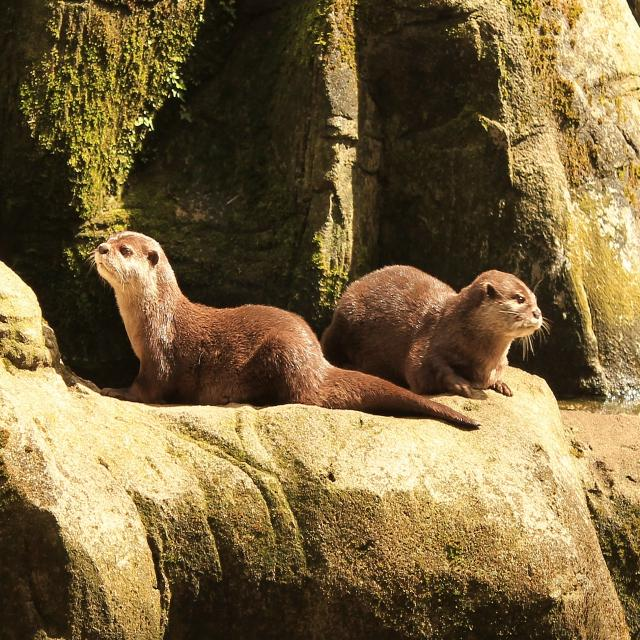otter: (98, 234, 477, 433), (324, 268, 543, 402)
